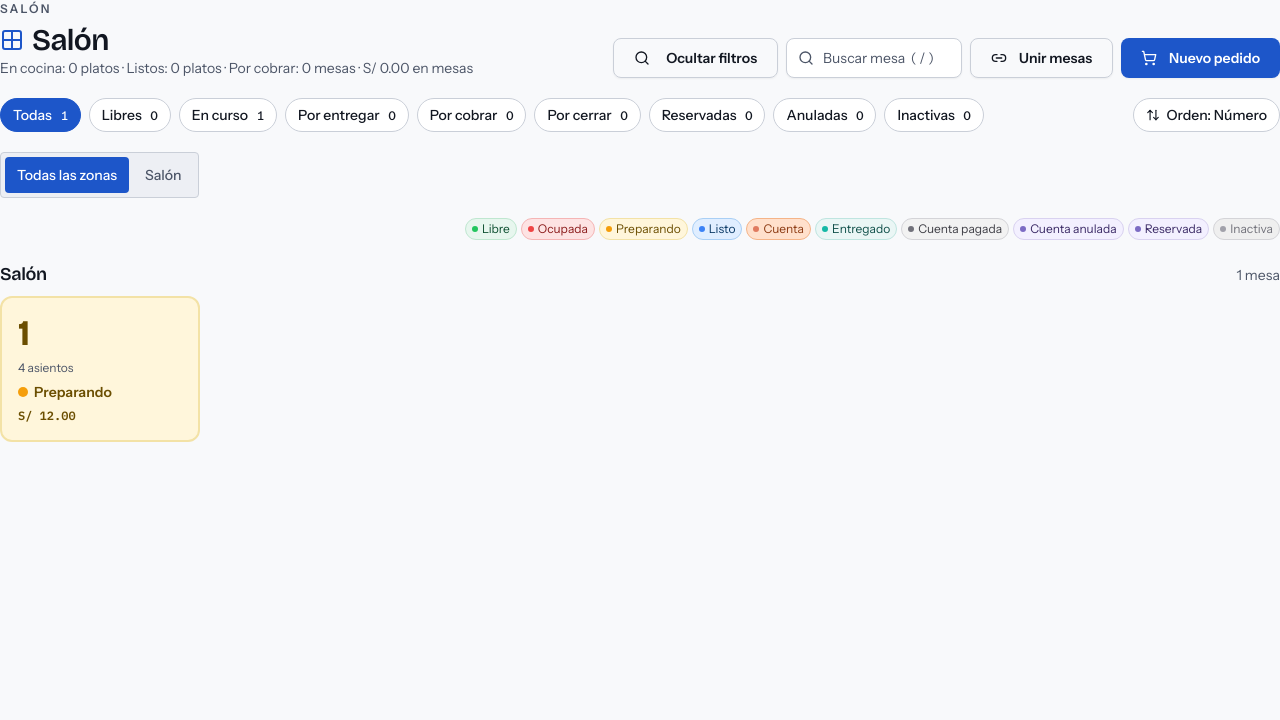
compositor · paridad posView (S8) › sends from the inline draft ticket after review confirmation
Click the element with test id "mesa-card-1".
click(100, 369)  # box [0,296,200,442]
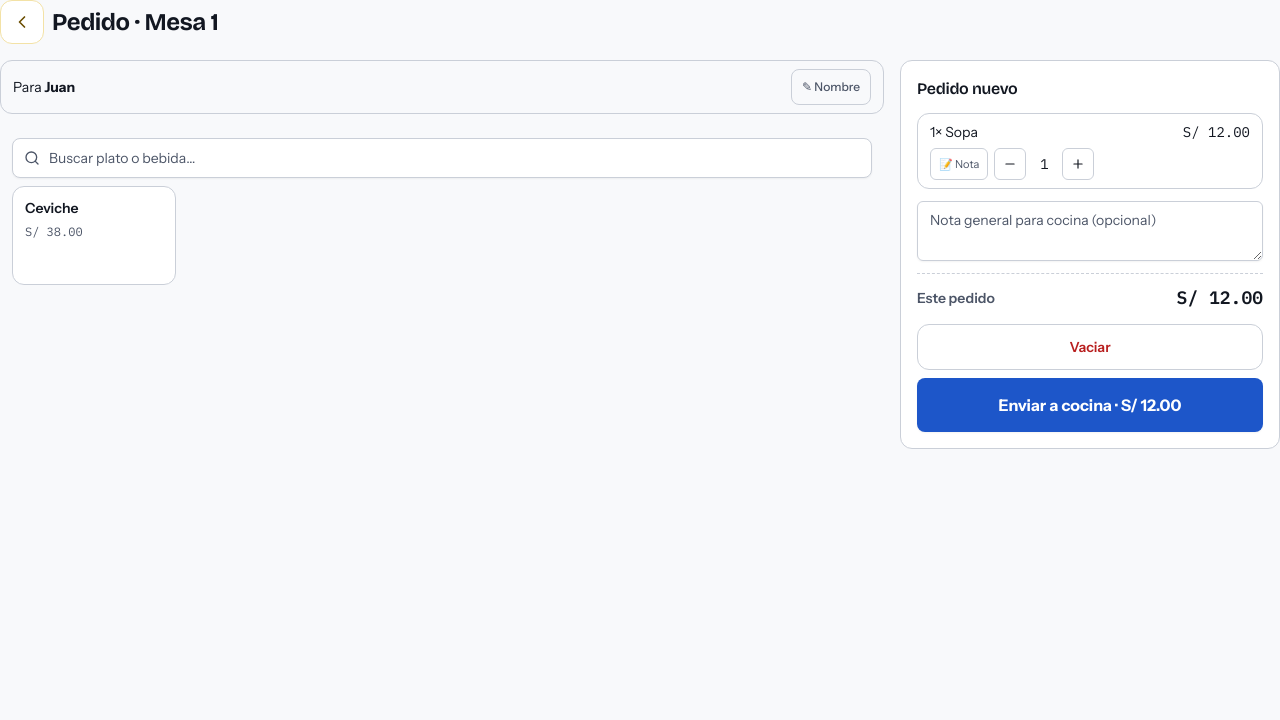
Click the button with test id "mesa-sheet-enviar-cocina".
click(1090, 405)  # box [917,378,1263,432]
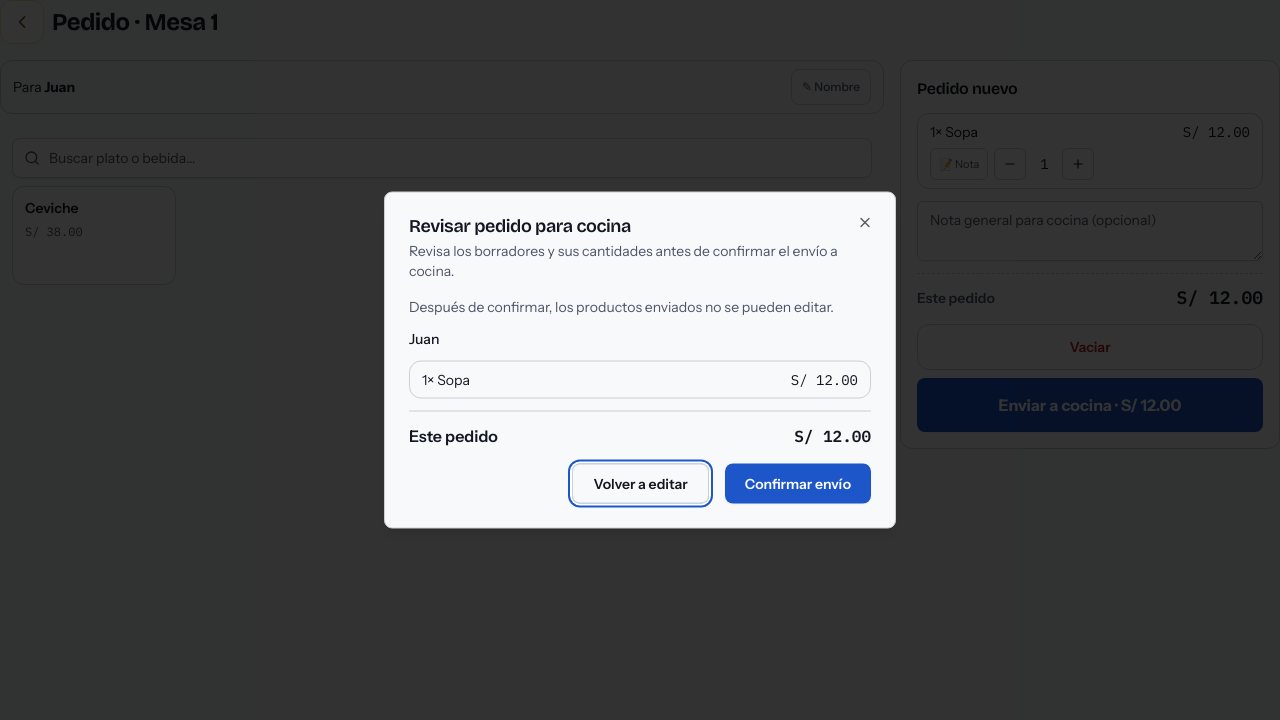
Click the button with test id "mesa-sheet-confirmar-envio".
click(798, 484)  # box [725,464,871,504]
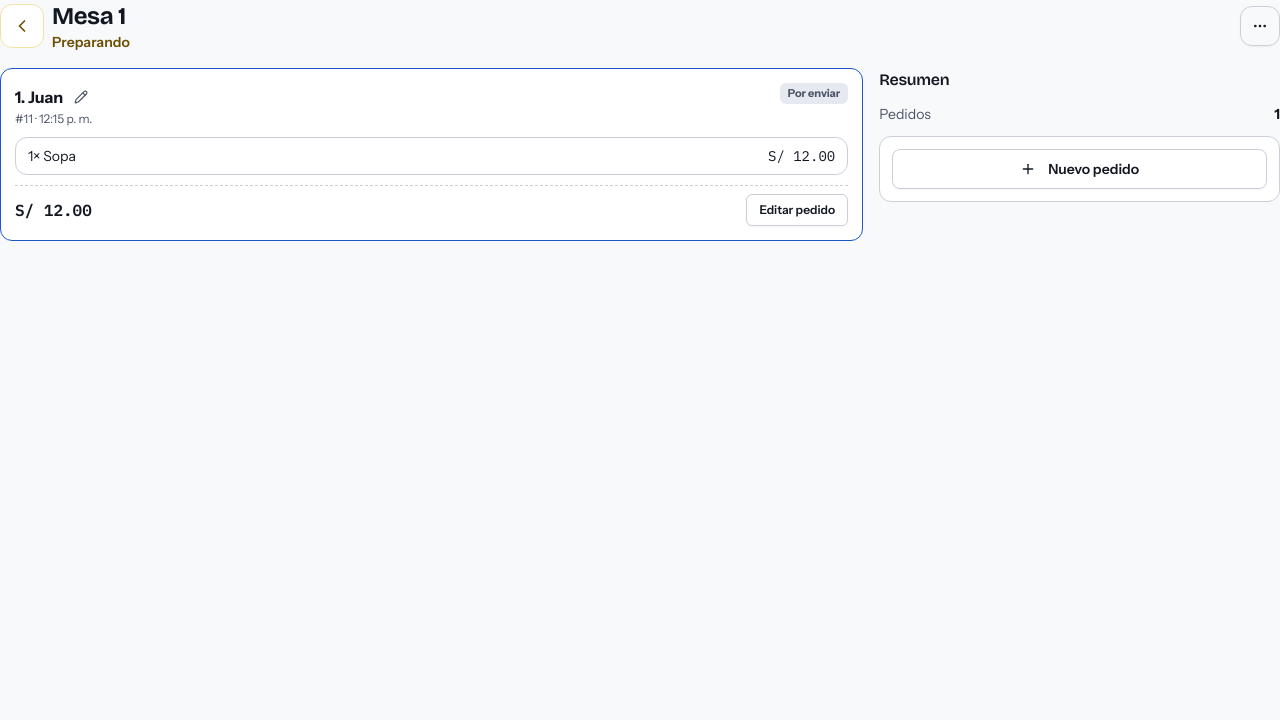
Expected: the element with test id "mesa-sheet-ticket" is gone
